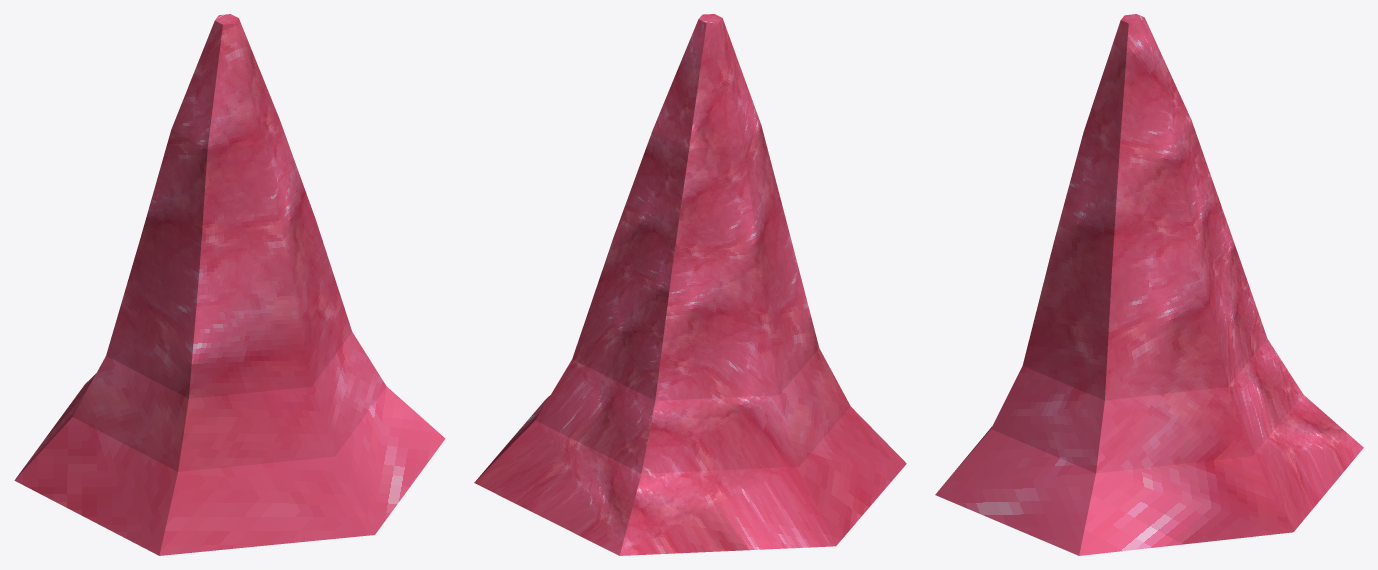
The model's file is tentacle.dae.
3 renders of one model, left to right at view 1: azimuth 30°, elevation 25°; view 2: azimuth 150°, elevation 25°; view 3: azimuth 270°, elevation 25°, orthographic.
Visible parts, largest first — view 1: tentacle; view 2: tentacle; view 3: tentacle.
Part boxes in pixels (x1=…): tentacle: x1=14, y1=14, x2=445, y2=555; tentacle: x1=474, y1=14, x2=906, y2=555; tentacle: x1=935, y1=14, x2=1363, y2=555.
Bounding box in the file's own units: 35.23 × 36.48 × 42.79.
Materials: 1 (1 with a texture image).
